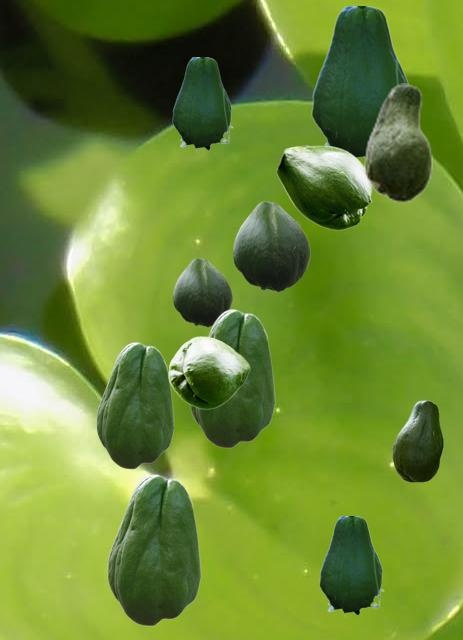sayote: (311, 6, 408, 158), (107, 474, 200, 625), (189, 309, 274, 447), (96, 342, 173, 468), (276, 145, 371, 229), (364, 83, 431, 202), (233, 201, 309, 291), (319, 516, 383, 616), (168, 336, 249, 408), (172, 57, 232, 151), (392, 400, 442, 481), (173, 258, 231, 326)
